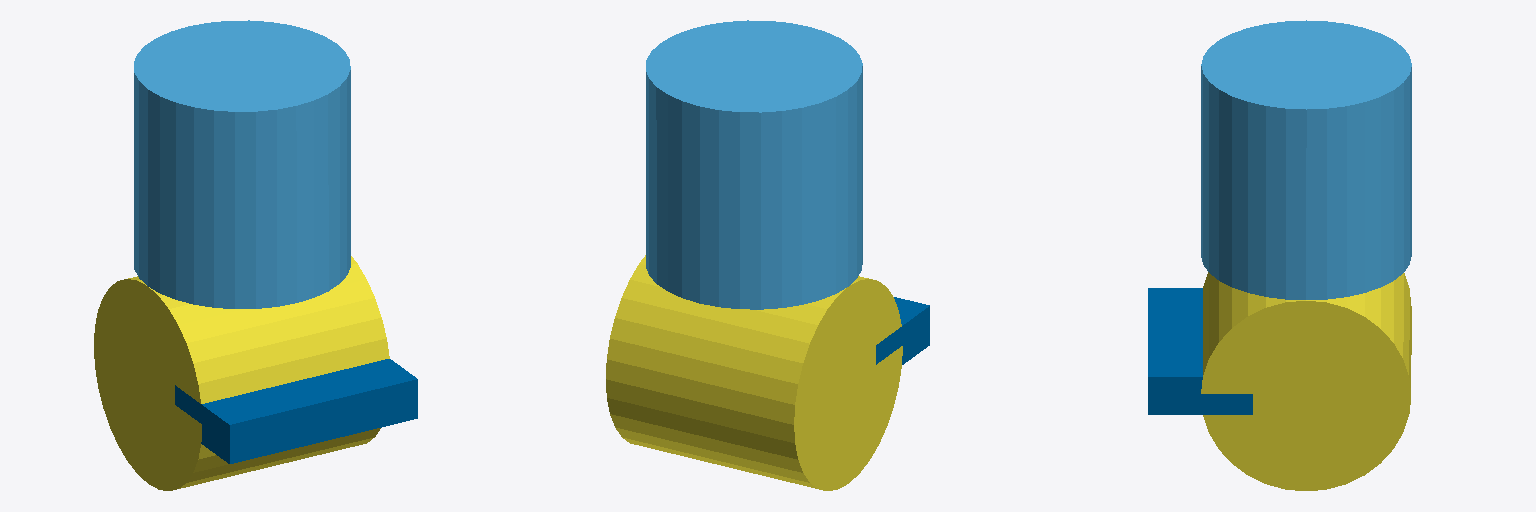
robot.urdf — ptz_camera:
<?xml version="1.0"?>
<robot name="ptz_camera">
	
	<link name="world" />	
	
	<joint name="fixed" type="fixed">
		<origin xyz="16.0 10.0 2.0" rpy="0 -3.14 1.57" />
    	<parent link="world"/>
    	<child link="base_link"/>
  	</joint>

	<link name="base_link">
		<visual>
			<geometry>
				<cylinder length="0.10" radius="0.05" />
			</geometry>
			<origin xpy="0 0 0" rpy="0 0 0" />
			<color rgba="0 1 0 1" />
		</visual>
		<collision>
			<geometry>
				<cylinder length="0.10" radius="0.05" />
			</geometry>
			<origin xpy="0 0 0" rpy="0 0 0" />
		</collision>
		<inertial>
      		<origin xyz="0 0 0" /> 
      		<mass value="0.01" />
      		<inertia  ixx="0.001" ixy="0.0"  ixz="0.0"  iyy="0.001"  iyz="0.0"  izz="0.001" />
   		</inertial>
	</link>

	<joint name="pan_joint" type="revolute" >
		<parent link="base_link" />
		<child link="pan_link" />
		<origin xyz ="0 0 0" />
		<axis 	xyz ="0 0 1" />
		<limit effort="300" velocity= "0.1" lower="-3.14" upper="3.14" />
		<dynamics damping ="50" friction="1"/>
	</joint>

	<link name="pan_link">
		<visual>
			<geometry>
				<cylinder length="0.10" radius="0.05" />
			</geometry>
			<origin xpy="0 0 0.05" rpy="0 0 0" />
		</visual>
		<collision>
			<geometry>
				<cylinder length="0.10" radius="0.05" />
			</geometry>
			<origin xpy="0 0 0" rpy="0 0 0" />
			<color rgba="1 0 0 1" />
		</collision>
		<inertial>
      		<origin xyz="0 0 0" /> 
      		<mass value="0.01" />
      		<inertia  ixx="0.001" ixy="0.0"  ixz="0.0"  iyy="0.001"  iyz="0.0"  izz="0.001" />
   		</inertial>
	</link>

	<joint name="tilt_joint" type="revolute" >
		<parent link="pan_link" />
		<child link="tilt_link" />
		<origin xyz ="0 0 0.1" />
		<axis 	xyz ="0 1 0" />
		<limit effort="300" velocity= "0.1" lower="-3.14" upper="3.14" />
		<dynamics damping ="50" friction="1"/>
	</joint>

	<link name="tilt_link">
		<visual>
			<geometry>
				<cylinder length="0.10" radius="0.05" />
			</geometry>
			<origin xpy="0 0 0" rpy="1.57 0 0" />
			<color rgba="0 0 1 1" />
		</visual>
		<collision>
			<geometry>
				<cylinder length="0.10" radius="0.05" />
			</geometry>
			<origin xpy="0 0 0" rpy="0 0 0" />
		</collision>
		<inertial>
      		<origin xyz="0 0 0" /> 
      		<mass value="0.01" />
      		<inertia  ixx="0.001" ixy="0.0"  ixz="0.0"  iyy="0.001"  iyz="0.0"  izz="0.001" />
   		</inertial>
	</link>

	<joint name="camera_joint" type="fixed">
		<parent link="tilt_link" />
		<child link="camera_link" />
		<origin xyz="0.05 0 0" rpy="0 0 0" />
	</joint>

	<link name="camera_link">
		<visual>
			<geometry>
				<box  size="0.05 0.1 0.02" />
			</geometry>
			<origin xpy="0 0 0" rpy="0 0 0" />
			<color rgba="0.5 0.5 0.5 1" />
		</visual>
		<collision>
			<geometry>
				<box  size="0.1 0.2 0.05" />
			</geometry>
			<origin xpy="0 0 0" rpy="0 0 0" />
		</collision>
		<inertial>
      		<origin xyz="0 0 0" /> 
      		<mass value="0.01" />
      		<inertia  ixx="0.001" ixy="0.0"  ixz="0.0"  iyy="0.001"  iyz="0.0"  izz="0.001" />
   		</inertial>
	</link>

	<gazebo reference="camera_link">
    	<sensor name="_camera_raw" type="camera">
			<update_rate>25</update_rate>
		 	<camera name="pan_tilt_cam">
		  		<horizontal_fov>1.06</horizontal_fov>
				<vertical_fov>0.649</vertical_fov>
		    	<image>
		     		<width>1920</width>
		      		<height>1080</height>
		      		<format>B8G8R8</format>
		    	</image>
		    	<clip>
		      		<near>0.02</near>
		      		<far>300</far>
	    		</clip>
		    	<noise>
		      		<type>gaussian</type>
					<mean>0.0</mean>
					<stddev>0.008</stddev>
				</noise>
		  	</camera>
		  	<plugin filename="libgazebo_ros_camera.so" name="_camera_raw_controller">
		    	<robotNamespace></robotNamespace>
		    	<alwaysOn>true</alwaysOn>
		    	<updateRate>30</updateRate>
		    	<cameraName>camera_raw</cameraName>
		    	<imageTopicName>image_raw</imageTopicName>
		    	<cameraInfoTopicName>camera_info</cameraInfoTopicName>
		    	<frameName>/camera_raw_link</frameName>
		    	<hackBaseline>0.0</hackBaseline>
		    	<distortionK1>0.0</distortionK1>
		    	<distortionK2>0.0</distortionK2>
		    	<distortionK3>0.0</distortionK3>
		    	<distortionT1>0.0</distortionT1>
		    	<distortionT2>0.0</distortionT2>
		  	</plugin>
		</sensor>
  	</gazebo>


	<!-- Transmissions -->
	<transmission name="pan_trans" >
		<robotNamespace>ptz_camera</robotNamespace>
		<type>transmission_interface/SimpleTransmission</type>
		<joint name="pan_joint">
			<hardwareInterface>PositionJointInterface</hardwareInterface>
		</joint>
		<actuator name="motor_pan">
			<hardwareInterface>PositionJointInterface</hardwareInterface>
			<mechanicalReduction>1</mechanicalReduction>
		</actuator>	
	</transmission>

	<transmission name="tilt_trans" >
		<robotNamespace>ptz_camera</robotNamespace>
		<type>transmission_interface/SimpleTransmission</type>
		<joint name="tilt_joint">
					<hardwareInterface>hardware_interface/PositionJointInterface</hardwareInterface>

		</joint>
		<actuator name="motor_tilt">
					<hardwareInterface>hardware_interface/PositionJointInterface</hardwareInterface>

			<mechanicalReduction>1</mechanicalReduction>
		</actuator>	
	</transmission>
<!--
	<gazebo>
		<plugin name="gazebo_ros_control" filename="libgazebo_ros_control.so">
			<robotNamespace>ptz_camera</robotNamespace>
			<robotSimType>gazebo_ros_control/DefaultRobotHWSim</robotSimType>
		</plugin>
	</gazebo>
-->
</robot>

--- What the picture shows (computed from the rendered views, not written in the file) ---
The picture shows the robot from 3 angles, left to right: view 1: azimuth 30°, elevation 25°; view 2: azimuth 150°, elevation 25°; view 3: azimuth 270°, elevation 25°; orthographic projection.
Robot: ptz_camera — 5 links, 4 joints (2 revolute, 2 fixed); root link world; default pose: every joint at zero.
Visible links, largest first — view 1: base_link, tilt_link, camera_link; view 2: base_link, tilt_link, camera_link; view 3: base_link, tilt_link, camera_link.
Link boxes in pixels (<box>): base_link: <box>134,20,350,308</box>; tilt_link: <box>94,256,389,490</box>; camera_link: <box>175,359,417,463</box>; base_link: <box>646,20,862,309</box>; tilt_link: <box>606,255,902,490</box>; camera_link: <box>876,297,929,364</box>; base_link: <box>1201,20,1411,299</box>; tilt_link: <box>1201,272,1411,490</box>; camera_link: <box>1148,288,1252,414</box>.
Bounding box of the posed robot: 0.1001 × 0.1253 × 0.2001 m (x, y, z).
Geometry: primitives only (box / cylinder / sphere), no mesh files.
